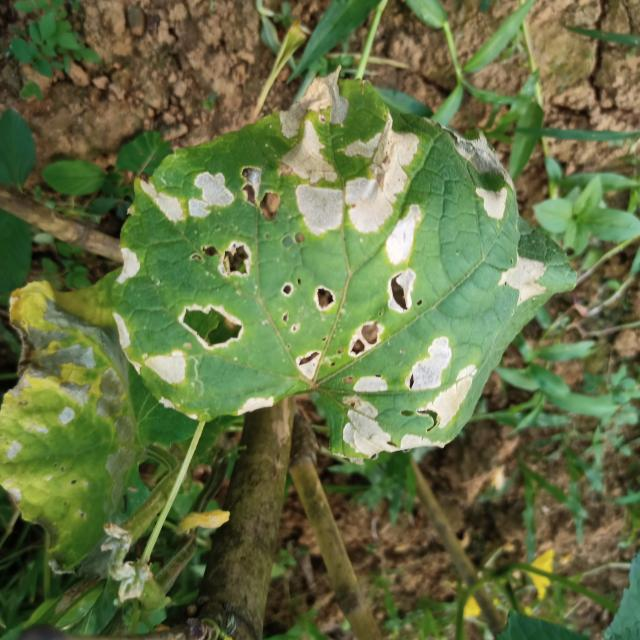disease_cucumber: (106, 80, 553, 457)
